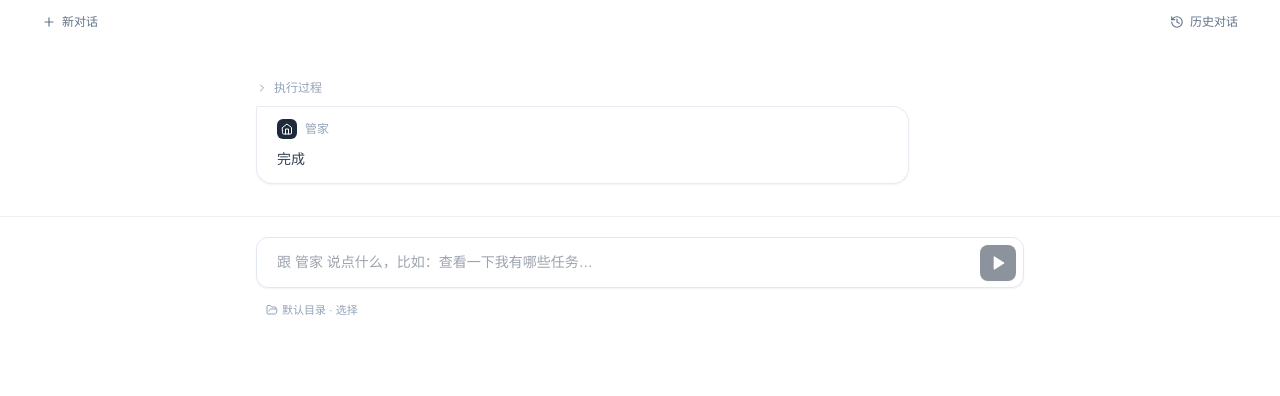
Test: ChatStream conversation initialization (Story 2.2 AC-2 / AC-7) › 历史执行事件的 0 秒耗时不会覆盖为完成态 0 秒
Click the button "执行过程": (289, 88) [256,76,322,100]
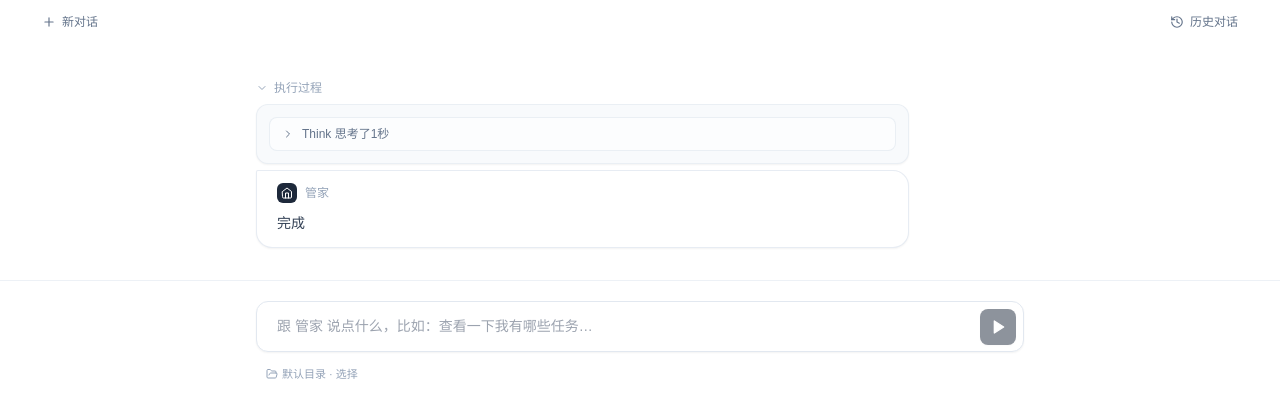
expect the text "Think 思考了1秒" is shown: met, box [302,126,389,142]
